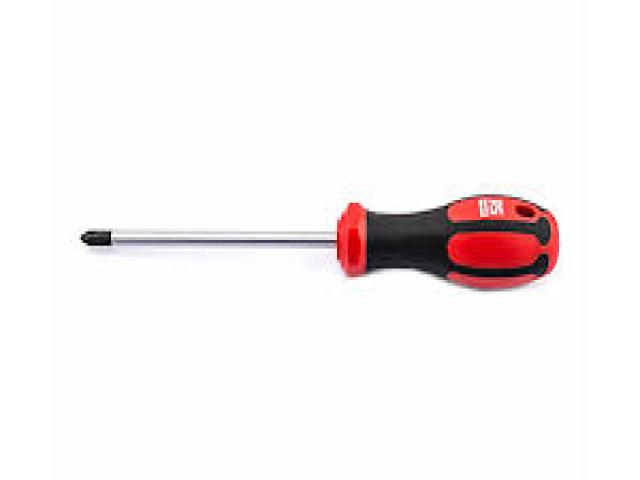Screwdriver: (81, 194, 559, 287)
